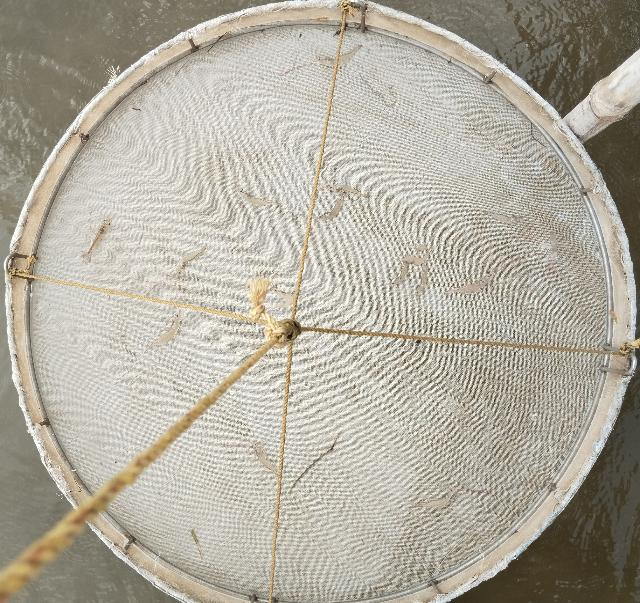shrimp: (144, 307, 182, 353), (80, 218, 112, 263), (443, 270, 495, 295), (250, 442, 283, 480), (312, 44, 362, 67), (312, 45, 362, 67), (412, 488, 459, 509), (175, 248, 207, 278), (314, 191, 346, 220), (235, 189, 280, 206), (387, 253, 408, 288), (327, 185, 370, 199), (482, 211, 528, 224), (413, 261, 427, 298)
